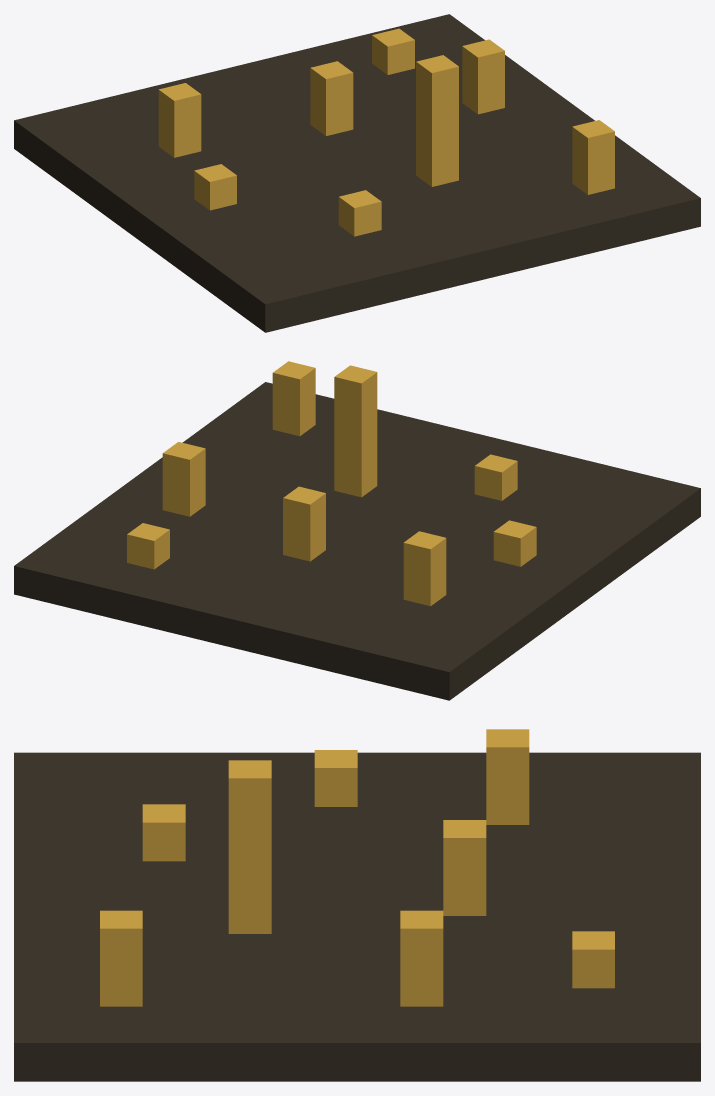
Rendered from Crops-2.obj.
3 renders of one model, top to bottom at view 1: azimuth 30°, elevation 25°; view 2: azimuth 150°, elevation 25°; view 3: azimuth 270°, elevation 25°, orthographic. The views are drawn at different scales.
Visible parts, largest first — view 1: Crops-2; view 2: Crops-2; view 3: Crops-2.
Boxes of the visible parts, x1=… form: Crops-2: x1=14, y1=14, x2=700, y2=332; Crops-2: x1=14, y1=361, x2=700, y2=700; Crops-2: x1=14, y1=729, x2=700, y2=1081.
Size of the model in its own units: 16 by 5 by 16.
1 material, 1 textured.
